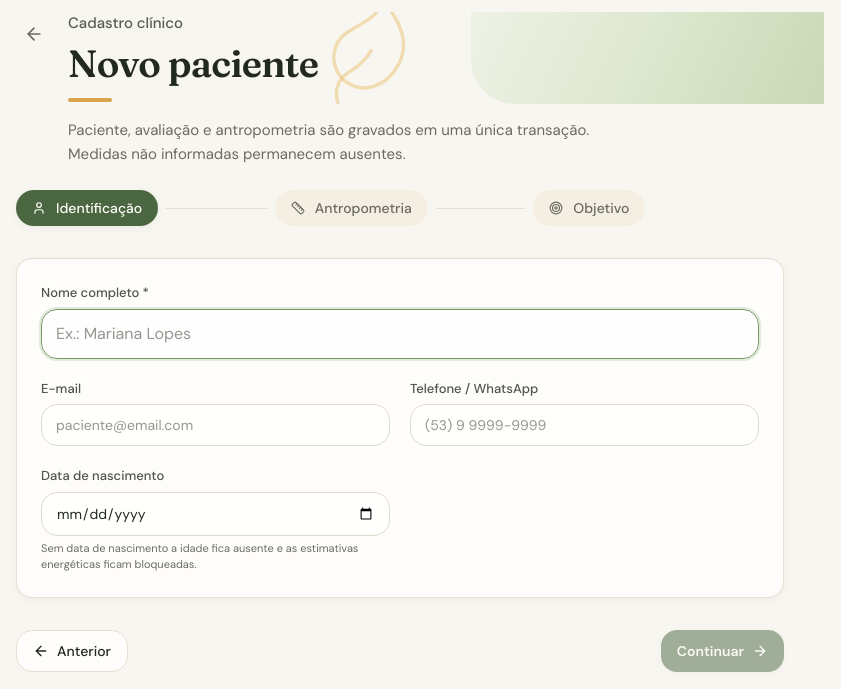
Test: PatientWizard › blocks advancing without a usable name
expect the button "Continuar" is disabled: met, box [661, 630, 784, 672]
Type "Mariana Lopes" into the field labelled "Nome completo *" at (400, 334), box [41, 309, 759, 359]
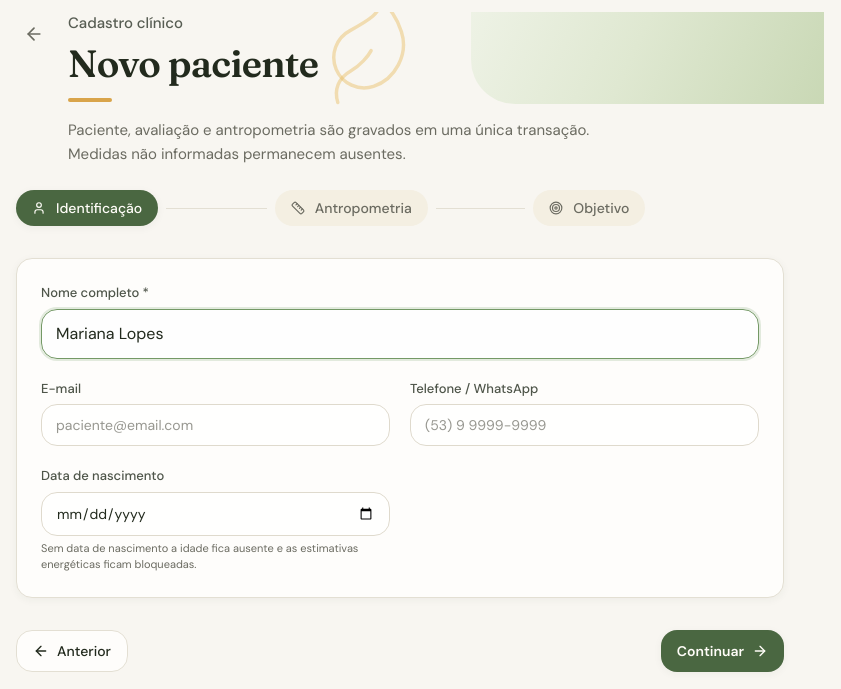
expect the button "Continuar" is enabled: met, box [661, 630, 784, 672]
